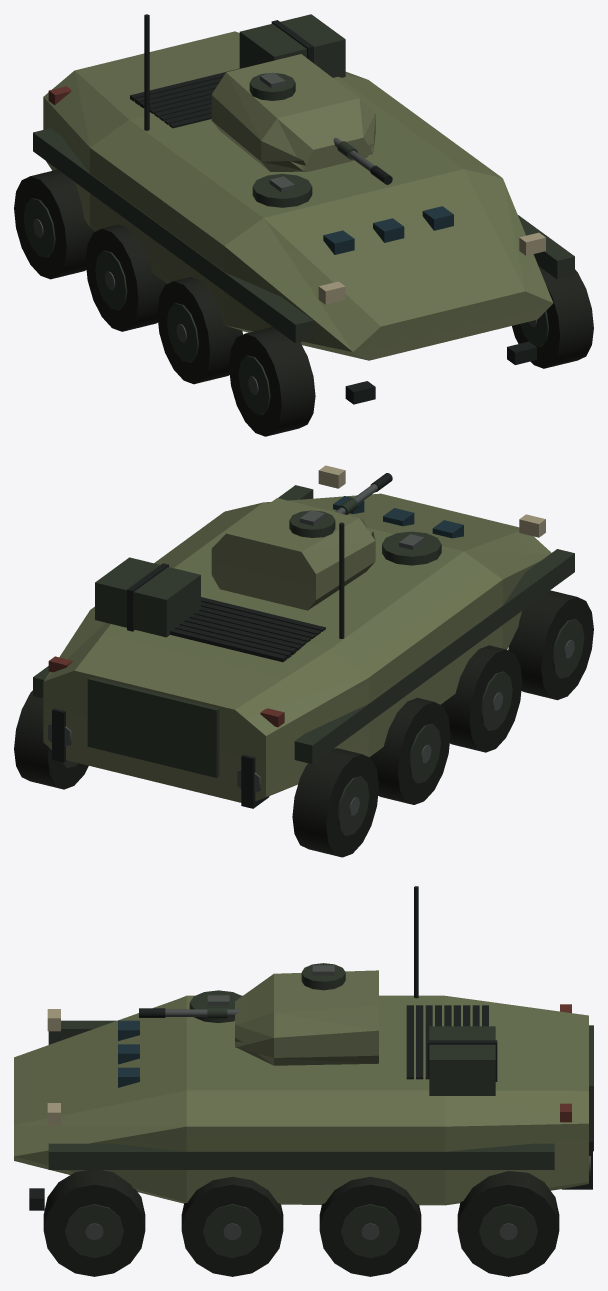
The model's file is apc-lod.glb.
The picture shows the model from 3 angles, top to bottom: view 1: azimuth 30°, elevation 25°; view 2: azimuth 150°, elevation 25°; view 3: azimuth 270°, elevation 25°; orthographic projection. The views are drawn at different scales.
Parts seen in each view (by area): view 1: equipment (×3); view 2: equipment (×3); view 3: equipment (×3).
Boxes of the visible parts, bbox=[...] form: equipment (×3): bbox=[14, 14, 593, 436]; equipment (×3): bbox=[14, 465, 593, 857]; equipment (×3): bbox=[14, 886, 593, 1276].
Size of the model in its own units: 3.19 by 2.7 by 5.24.
